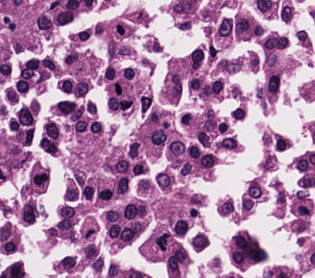nucleus: (218, 19, 231, 36), (151, 130, 166, 144), (192, 49, 203, 68), (58, 101, 75, 113), (170, 141, 184, 155), (57, 11, 72, 24), (156, 234, 168, 250), (268, 76, 279, 92), (38, 16, 51, 29), (175, 220, 187, 234), (193, 235, 207, 247), (47, 123, 58, 138), (125, 204, 136, 219), (236, 19, 248, 32), (75, 83, 87, 96), (156, 174, 169, 186), (121, 227, 133, 240), (257, 0, 271, 11), (198, 132, 209, 146), (281, 6, 291, 21), (298, 177, 313, 187), (201, 155, 213, 167), (66, 188, 78, 200), (61, 206, 74, 217), (141, 97, 151, 111), (222, 138, 236, 148), (118, 178, 127, 193), (249, 186, 261, 197), (106, 210, 118, 221), (109, 225, 120, 237), (34, 174, 47, 184), (58, 219, 71, 229), (129, 143, 138, 157), (276, 37, 287, 48), (108, 98, 119, 109), (233, 108, 244, 119), (116, 160, 127, 171), (235, 236, 246, 247), (65, 54, 77, 64), (26, 59, 38, 69), (212, 81, 222, 93), (72, 107, 82, 119), (181, 163, 191, 175), (100, 189, 112, 199), (84, 186, 93, 199), (265, 38, 276, 48), (43, 59, 54, 69), (62, 81, 72, 92), (75, 121, 86, 131), (46, 142, 56, 153), (189, 146, 199, 157), (243, 199, 253, 210), (267, 54, 276, 66), (223, 202, 233, 212), (105, 68, 114, 79), (124, 68, 133, 79), (87, 102, 96, 113), (277, 139, 286, 150), (75, 174, 84, 185), (67, 0, 79, 8), (79, 31, 89, 40), (181, 114, 190, 124), (91, 122, 100, 132), (298, 160, 307, 170), (133, 165, 143, 174), (120, 101, 131, 109), (297, 191, 308, 199), (298, 206, 309, 214), (254, 26, 263, 35), (297, 31, 306, 40), (174, 3, 184, 11), (191, 79, 199, 89), (50, 1, 59, 9), (153, 42, 161, 51), (219, 123, 227, 132), (40, 138, 49, 146), (180, 22, 190, 29), (96, 24, 103, 33), (117, 25, 124, 34), (151, 113, 158, 122), (210, 46, 216, 56), (115, 84, 121, 94), (173, 75, 179, 84), (278, 193, 284, 202), (190, 209, 197, 216), (86, 230, 93, 237), (84, 0, 92, 6), (109, 43, 113, 55), (310, 153, 314, 164), (49, 229, 56, 234), (164, 123, 168, 127)
